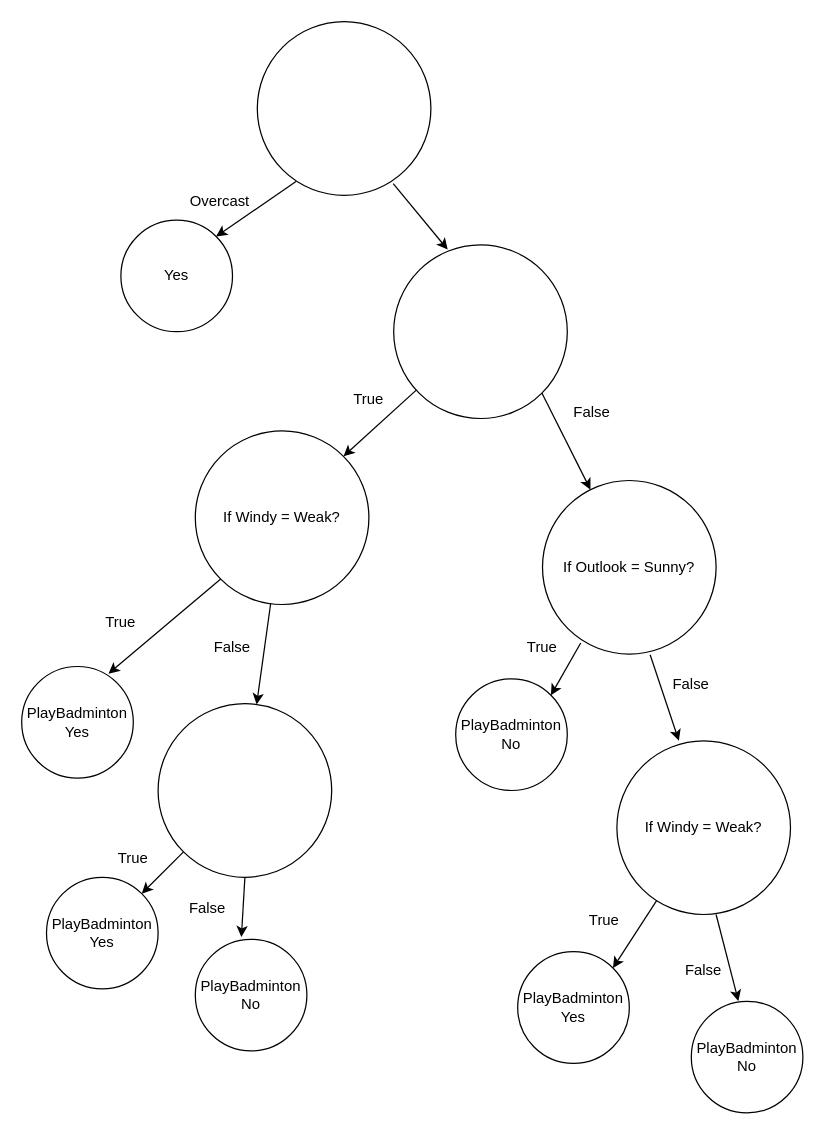
Some shapes in this 825 by 1135 pixel diagram are drawn without their labels. Each missing label, with the centre of its shape:
If Humidity = Normal?: the point at 479,331
If Temperature = Mild?: the point at 244,789
Outlook: the point at 343,107
